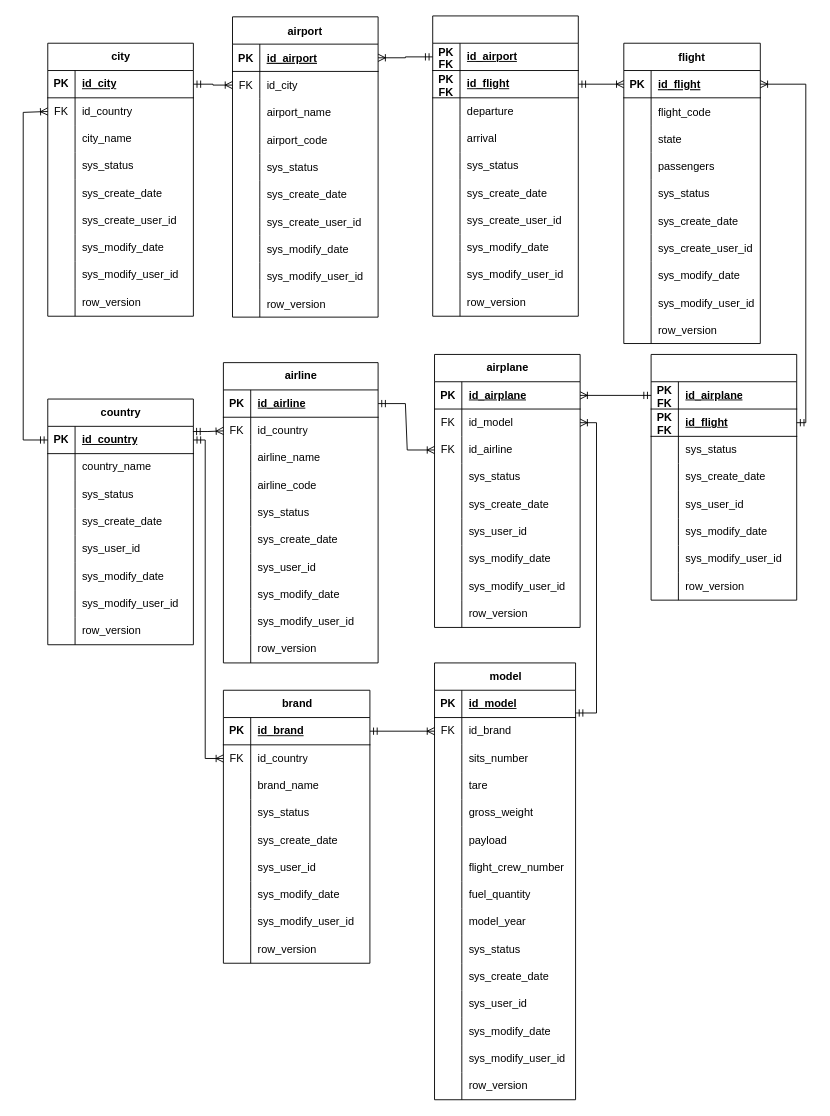
The diagram is 830 pixels wide and 1116 high, and some of its shapes have lost their labels. The shapes that lost their labels are listed below. From the top down, each one's box as (x1, y1, x2, y2) in pixels, then its label:
(432, 15, 578, 316): airport_flight
(650, 354, 797, 600): airplane_flight
